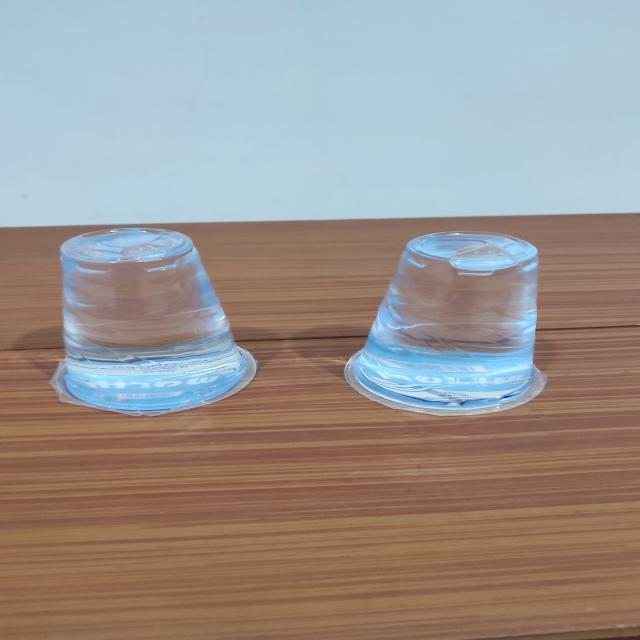air gelas: (338, 226, 566, 419), (41, 230, 262, 413)
